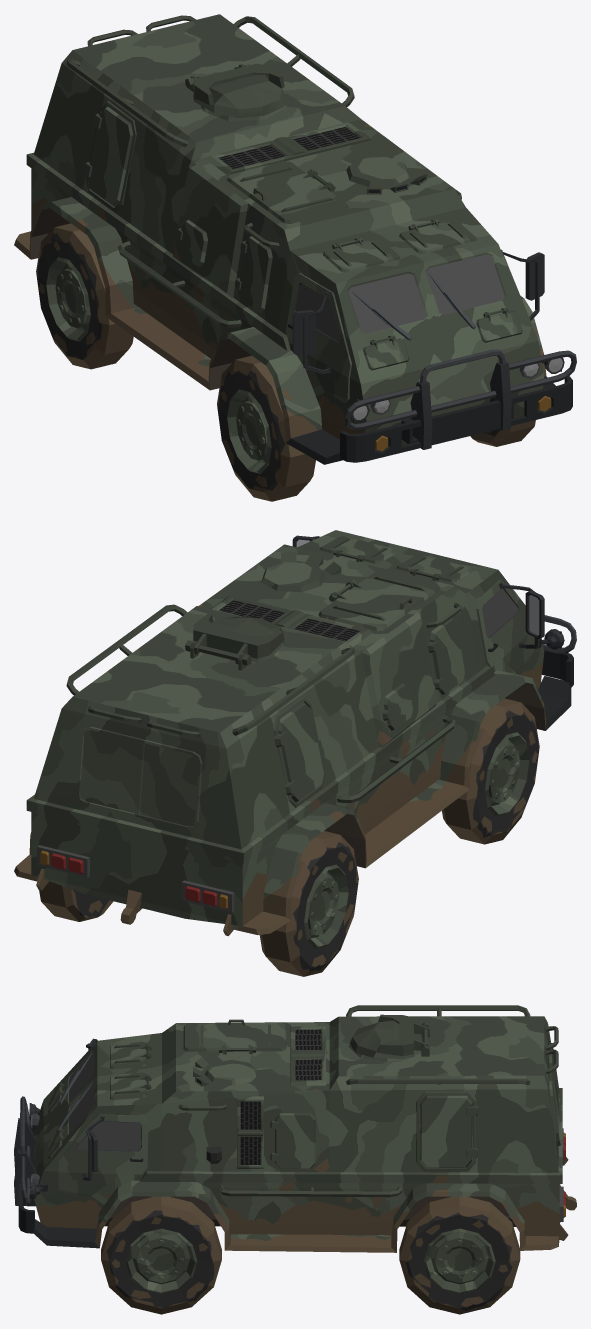
File: SM_Veh_APC_02.fbx
3 renders of one model, top to bottom at view 1: azimuth 30°, elevation 25°; view 2: azimuth 150°, elevation 25°; view 3: azimuth 270°, elevation 25°, orthographic. The views are drawn at different scales.
Visible parts, largest first — view 1: SM_Veh_APC_02, SM_Veh_APC_02_Wheel_fr, SM_Veh_APC_02_Wheel_rr, SM_Veh_APC_02_Glass, SM_Veh_APC_02_Hatch, SM_Veh_APC_02_Wheel_fl; view 2: SM_Veh_APC_02, SM_Veh_APC_02_Wheel_fr, SM_Veh_APC_02_Wheel_rr, SM_Veh_APC_02_Hatch, SM_Veh_APC_02_Wheel_rl, SM_Veh_APC_02_Glass; view 3: SM_Veh_APC_02, SM_Veh_APC_02_Wheel_rl, SM_Veh_APC_02_Wheel_fl, SM_Veh_APC_02_Hatch, SM_Veh_APC_02_Glass.
Part boxes in pixels (x1=…): SM_Veh_APC_02: x1=14, y1=14, x2=576, y2=464; SM_Veh_APC_02_Wheel_fr: x1=217, y1=355, x2=315, y2=501; SM_Veh_APC_02_Wheel_rr: x1=36, y1=223, x2=133, y2=369; SM_Veh_APC_02_Glass: x1=295, y1=254, x2=504, y2=342; SM_Veh_APC_02_Hatch: x1=185, y1=63, x2=285, y2=117; SM_Veh_APC_02_Wheel_fl: x1=470, y1=415, x2=535, y2=446; SM_Veh_APC_02: x1=14, y1=530, x2=576, y2=936; SM_Veh_APC_02_Wheel_fr: x1=442, y1=698, x2=539, y2=844; SM_Veh_APC_02_Wheel_rr: x1=259, y1=831, x2=358, y2=976; SM_Veh_APC_02_Hatch: x1=185, y1=613, x2=284, y2=665; SM_Veh_APC_02_Wheel_rl: x1=39, y1=881, x2=113, y2=921; SM_Veh_APC_02_Glass: x1=482, y1=588, x2=517, y2=637; SM_Veh_APC_02: x1=14, y1=1005, x2=576, y2=1252; SM_Veh_APC_02_Wheel_rl: x1=399, y1=1196, x2=520, y2=1314; SM_Veh_APC_02_Wheel_fl: x1=101, y1=1196, x2=221, y2=1314; SM_Veh_APC_02_Hatch: x1=349, y1=1014, x2=429, y2=1058; SM_Veh_APC_02_Glass: x1=69, y1=1051, x2=141, y2=1150.
Size of the model in its own units: 263 by 276 by 595.
